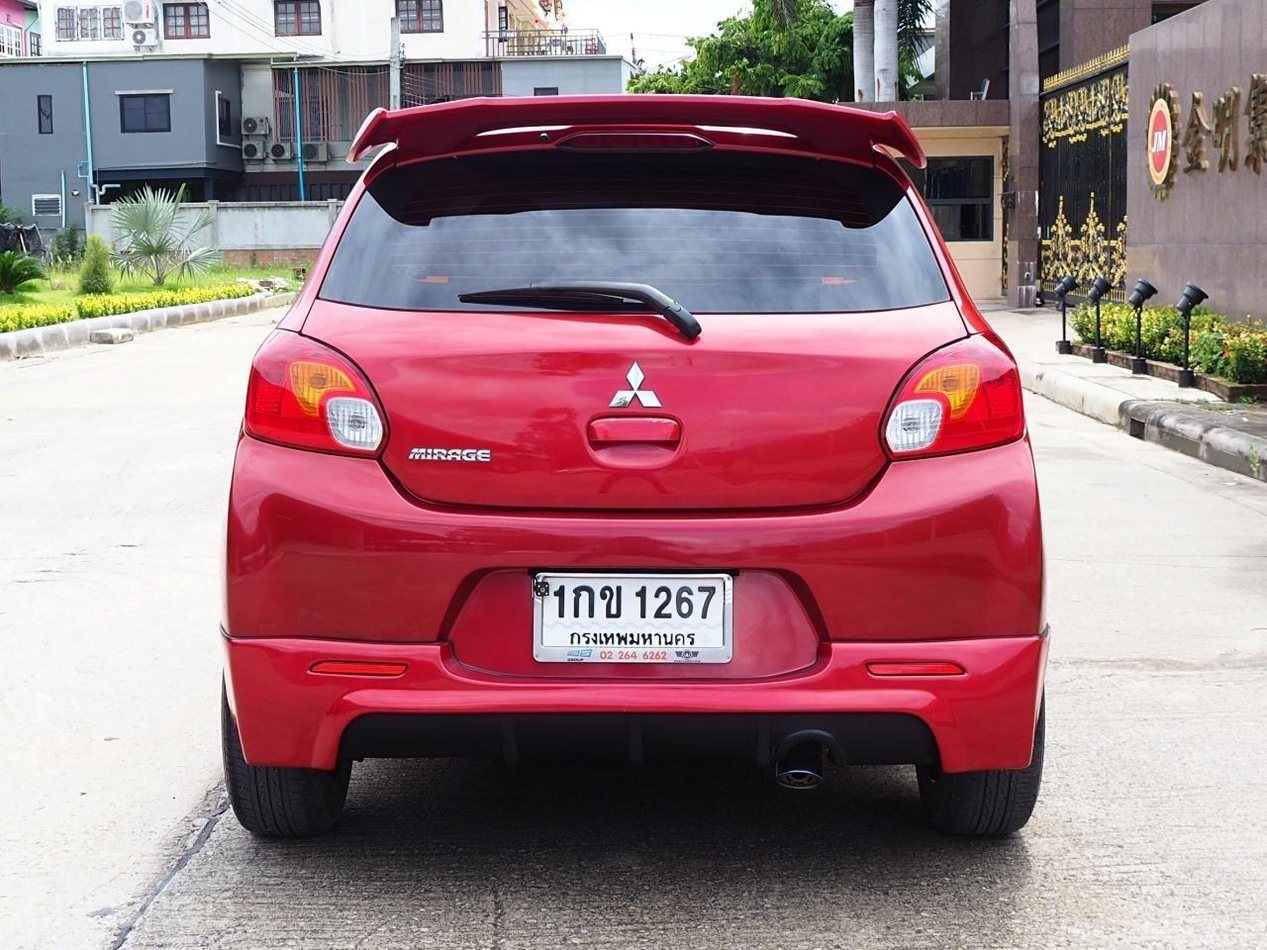license-plate: (528, 565, 737, 666)
